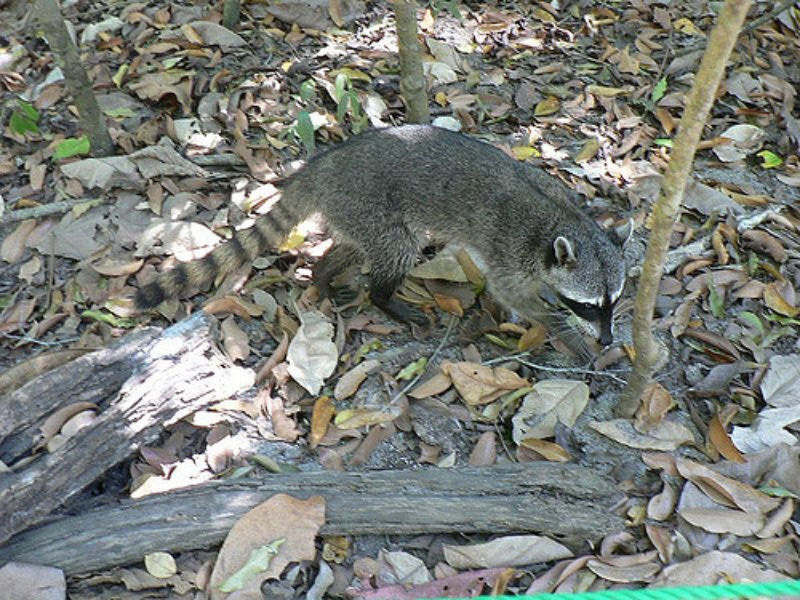raccoon: (130, 116, 639, 364)
